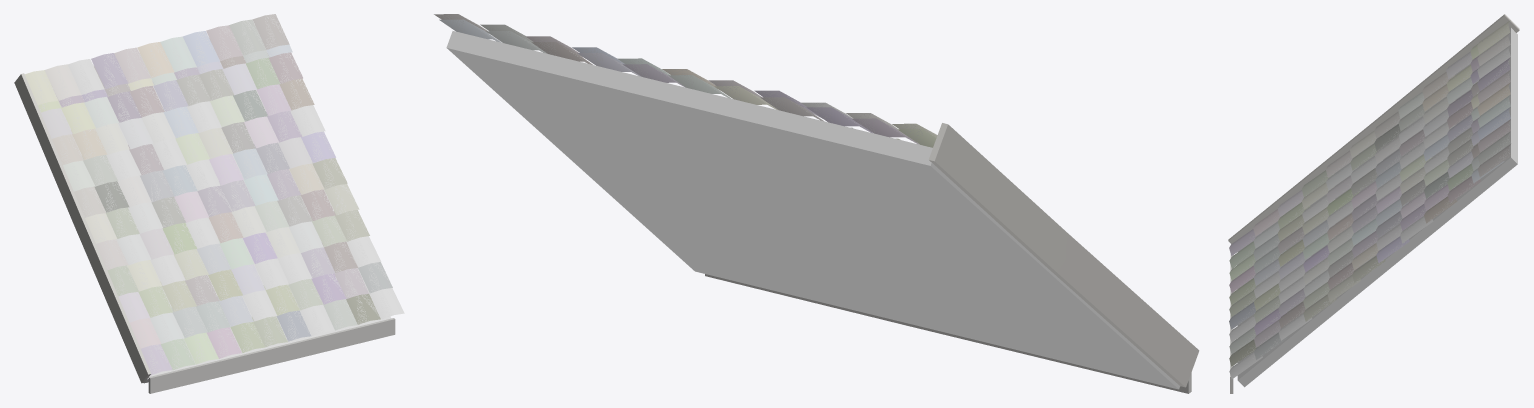
File: Kit_RealHouse_RoofLF_Fractured.fbx
The picture shows the model from 3 angles, left to right: view 1: azimuth 30°, elevation 25°; view 2: azimuth 150°, elevation 25°; view 3: azimuth 270°, elevation 25°; orthographic projection. The views are drawn at different scales.
Visible parts, largest first — view 1: Kit_RealHouse_RoofLF_frag_06, Kit_RealHouse_RoofLF_frag_04, Kit_RealHouse_RoofLF_frag_03, Kit_RealHouse_RoofLF_frag_02, Kit_RealHouse_RoofLF_frag_08, Kit_RealHouse_RoofLF_frag_01, Kit_RealHouse_RoofLF_frag_09, Kit_RealHouse_RoofLF_frag_07, Kit_RealHouse_RoofLF_frag_05; view 2: Kit_RealHouse_RoofLF_frag_02, Kit_RealHouse_RoofLF_frag_03, Kit_RealHouse_RoofLF_frag_01, Kit_RealHouse_RoofLF_frag_04, Kit_RealHouse_RoofLF_frag_05, Kit_RealHouse_RoofLF_frag_07, Kit_RealHouse_RoofLF_frag_06, Kit_RealHouse_RoofLF_frag_09, Kit_RealHouse_RoofLF_frag_08; view 3: Kit_RealHouse_RoofLF_frag_04, Kit_RealHouse_RoofLF_frag_06, Kit_RealHouse_RoofLF_frag_03, Kit_RealHouse_RoofLF_frag_02, Kit_RealHouse_RoofLF_frag_01, Kit_RealHouse_RoofLF_frag_07, Kit_RealHouse_RoofLF_frag_08, Kit_RealHouse_RoofLF_frag_09, Kit_RealHouse_RoofLF_frag_05.
Boxes of the visible parts, left/top/right/bottom form: Kit_RealHouse_RoofLF_frag_06: left=49, top=101, right=255, bottom=280; Kit_RealHouse_RoofLF_frag_04: left=199, top=14, right=359, bottom=226; Kit_RealHouse_RoofLF_frag_03: left=216, top=117, right=404, bottom=347; Kit_RealHouse_RoofLF_frag_02: left=52, top=31, right=222, bottom=212; Kit_RealHouse_RoofLF_frag_08: left=208, top=264, right=395, bottom=364; Kit_RealHouse_RoofLF_frag_01: left=96, top=215, right=269, bottom=383; Kit_RealHouse_RoofLF_frag_09: left=141, top=306, right=273, bottom=393; Kit_RealHouse_RoofLF_frag_07: left=14, top=59, right=119, bottom=176; Kit_RealHouse_RoofLF_frag_05: left=80, top=228, right=161, bottom=383; Kit_RealHouse_RoofLF_frag_02: left=572, top=47, right=1056, bottom=279; Kit_RealHouse_RoofLF_frag_03: left=529, top=121, right=934, bottom=329; Kit_RealHouse_RoofLF_frag_01: left=813, top=220, right=1180, bottom=389; Kit_RealHouse_RoofLF_frag_04: left=434, top=14, right=767, bottom=179; Kit_RealHouse_RoofLF_frag_05: left=1061, top=244, right=1199, bottom=387; Kit_RealHouse_RoofLF_frag_07: left=801, top=102, right=1033, bottom=223; Kit_RealHouse_RoofLF_frag_06: left=998, top=202, right=1080, bottom=280; Kit_RealHouse_RoofLF_frag_09: left=945, top=332, right=1191, bottom=393; Kit_RealHouse_RoofLF_frag_08: left=705, top=274, right=945, bottom=334; Kit_RealHouse_RoofLF_frag_04: left=1327, top=93, right=1517, bottom=301; Kit_RealHouse_RoofLF_frag_06: left=1302, top=91, right=1455, bottom=259; Kit_RealHouse_RoofLF_frag_03: left=1229, top=166, right=1427, bottom=387; Kit_RealHouse_RoofLF_frag_02: left=1383, top=28, right=1517, bottom=164; Kit_RealHouse_RoofLF_frag_01: left=1238, top=143, right=1375, bottom=288; Kit_RealHouse_RoofLF_frag_07: left=1411, top=14, right=1519, bottom=103; Kit_RealHouse_RoofLF_frag_08: left=1229, top=239, right=1311, bottom=393; Kit_RealHouse_RoofLF_frag_09: left=1229, top=222, right=1279, bottom=306; Kit_RealHouse_RoofLF_frag_05: left=1228, top=133, right=1367, bottom=243.
Size of what is drawn, in the model's own units: 3.79 by 3.21 by 3.41.
